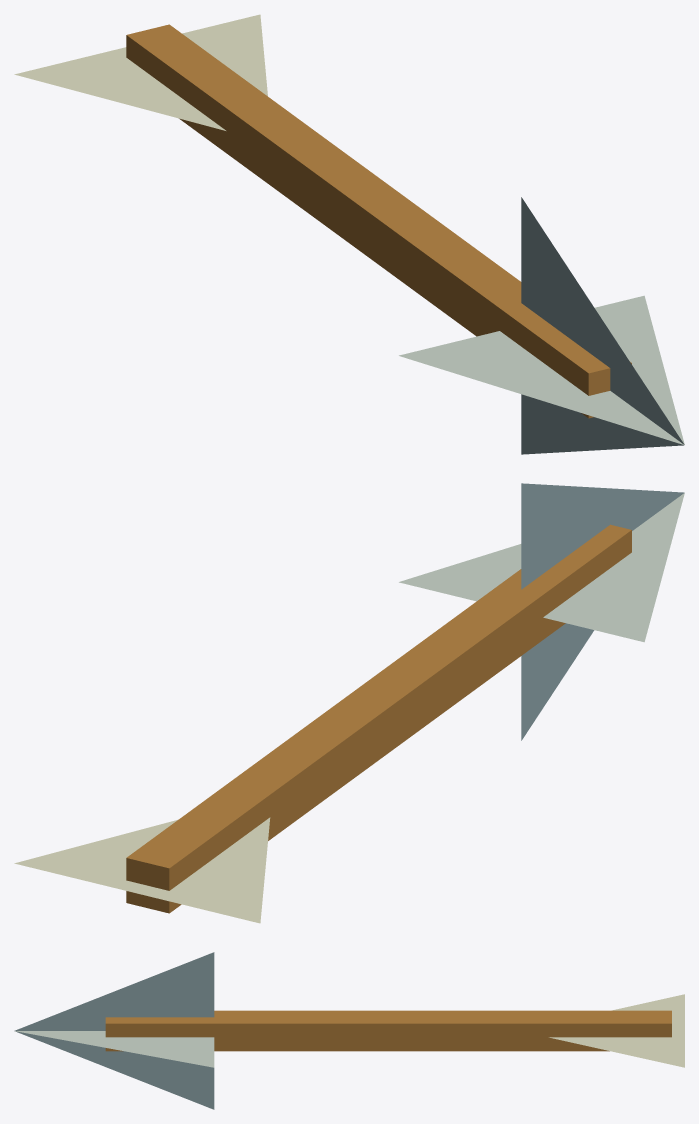
The model's file is bolt.fbx.
3 renders of one model, top to bottom at view 1: azimuth 30°, elevation 25°; view 2: azimuth 150°, elevation 25°; view 3: azimuth 270°, elevation 25°, orthographic. The views are drawn at different scales.
Parts seen in each view (by area): view 1: bolt; view 2: bolt; view 3: bolt.
Boxes of the visible parts, x1=… form: bolt: x1=14, y1=14, x2=684, y2=454; bolt: x1=14, y1=483, x2=684, y2=923; bolt: x1=14, y1=952, x2=684, y2=1109.
Bounding box in the file's own units: 0.2 × 0.2 × 0.77.
